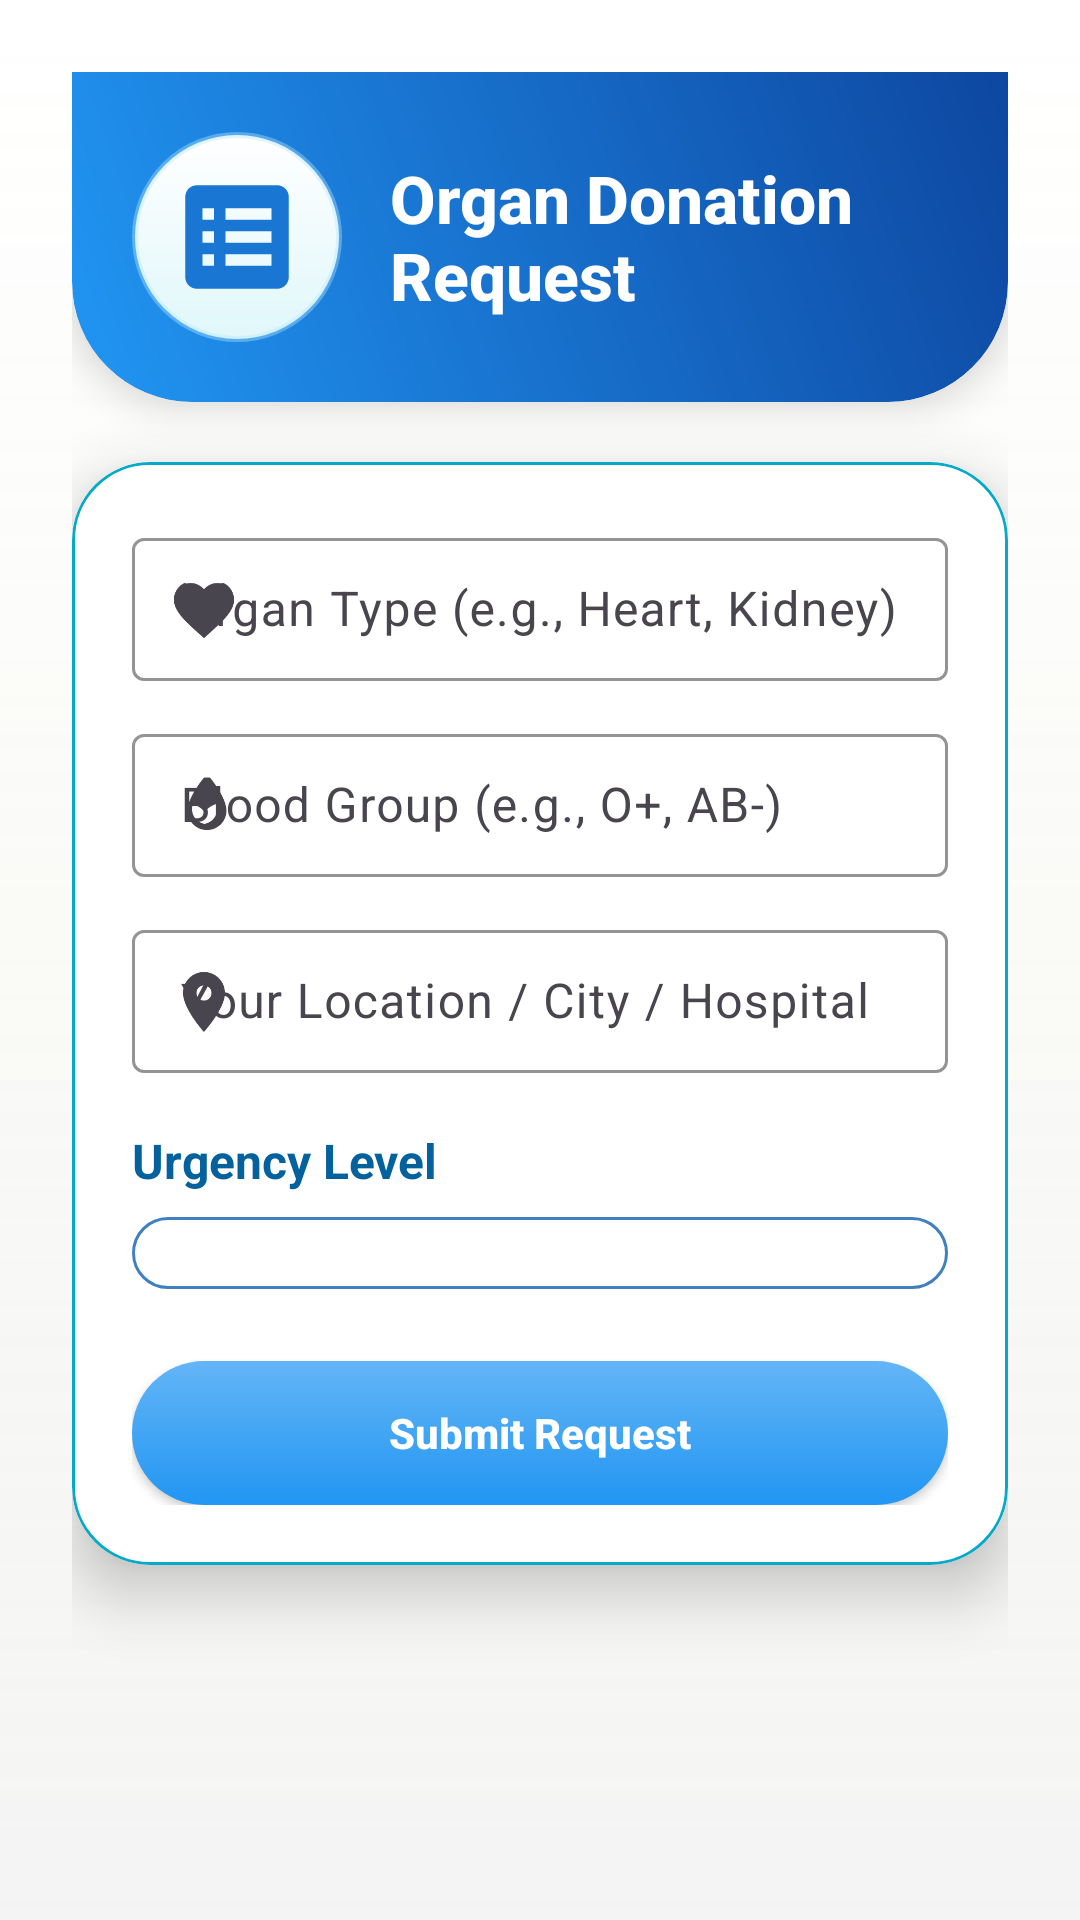

Where to tap for icons on this 1080x1920 app screen, as point (x, y):
requests: point (237, 237)
